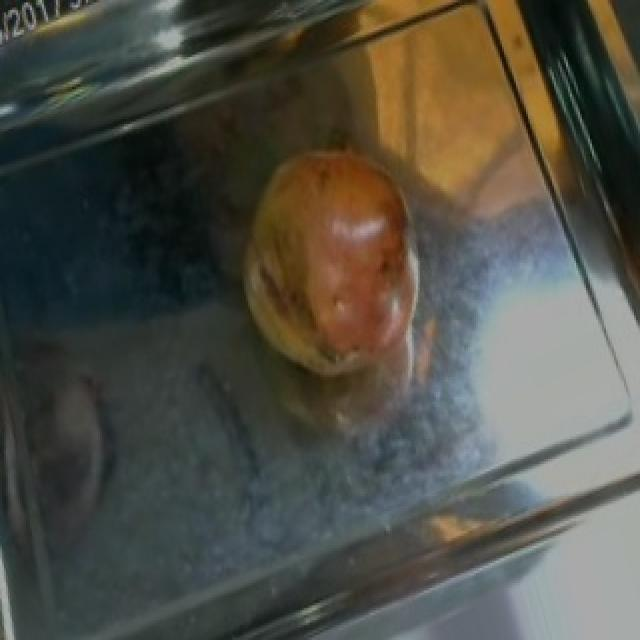fruit: (214, 124, 450, 402)
